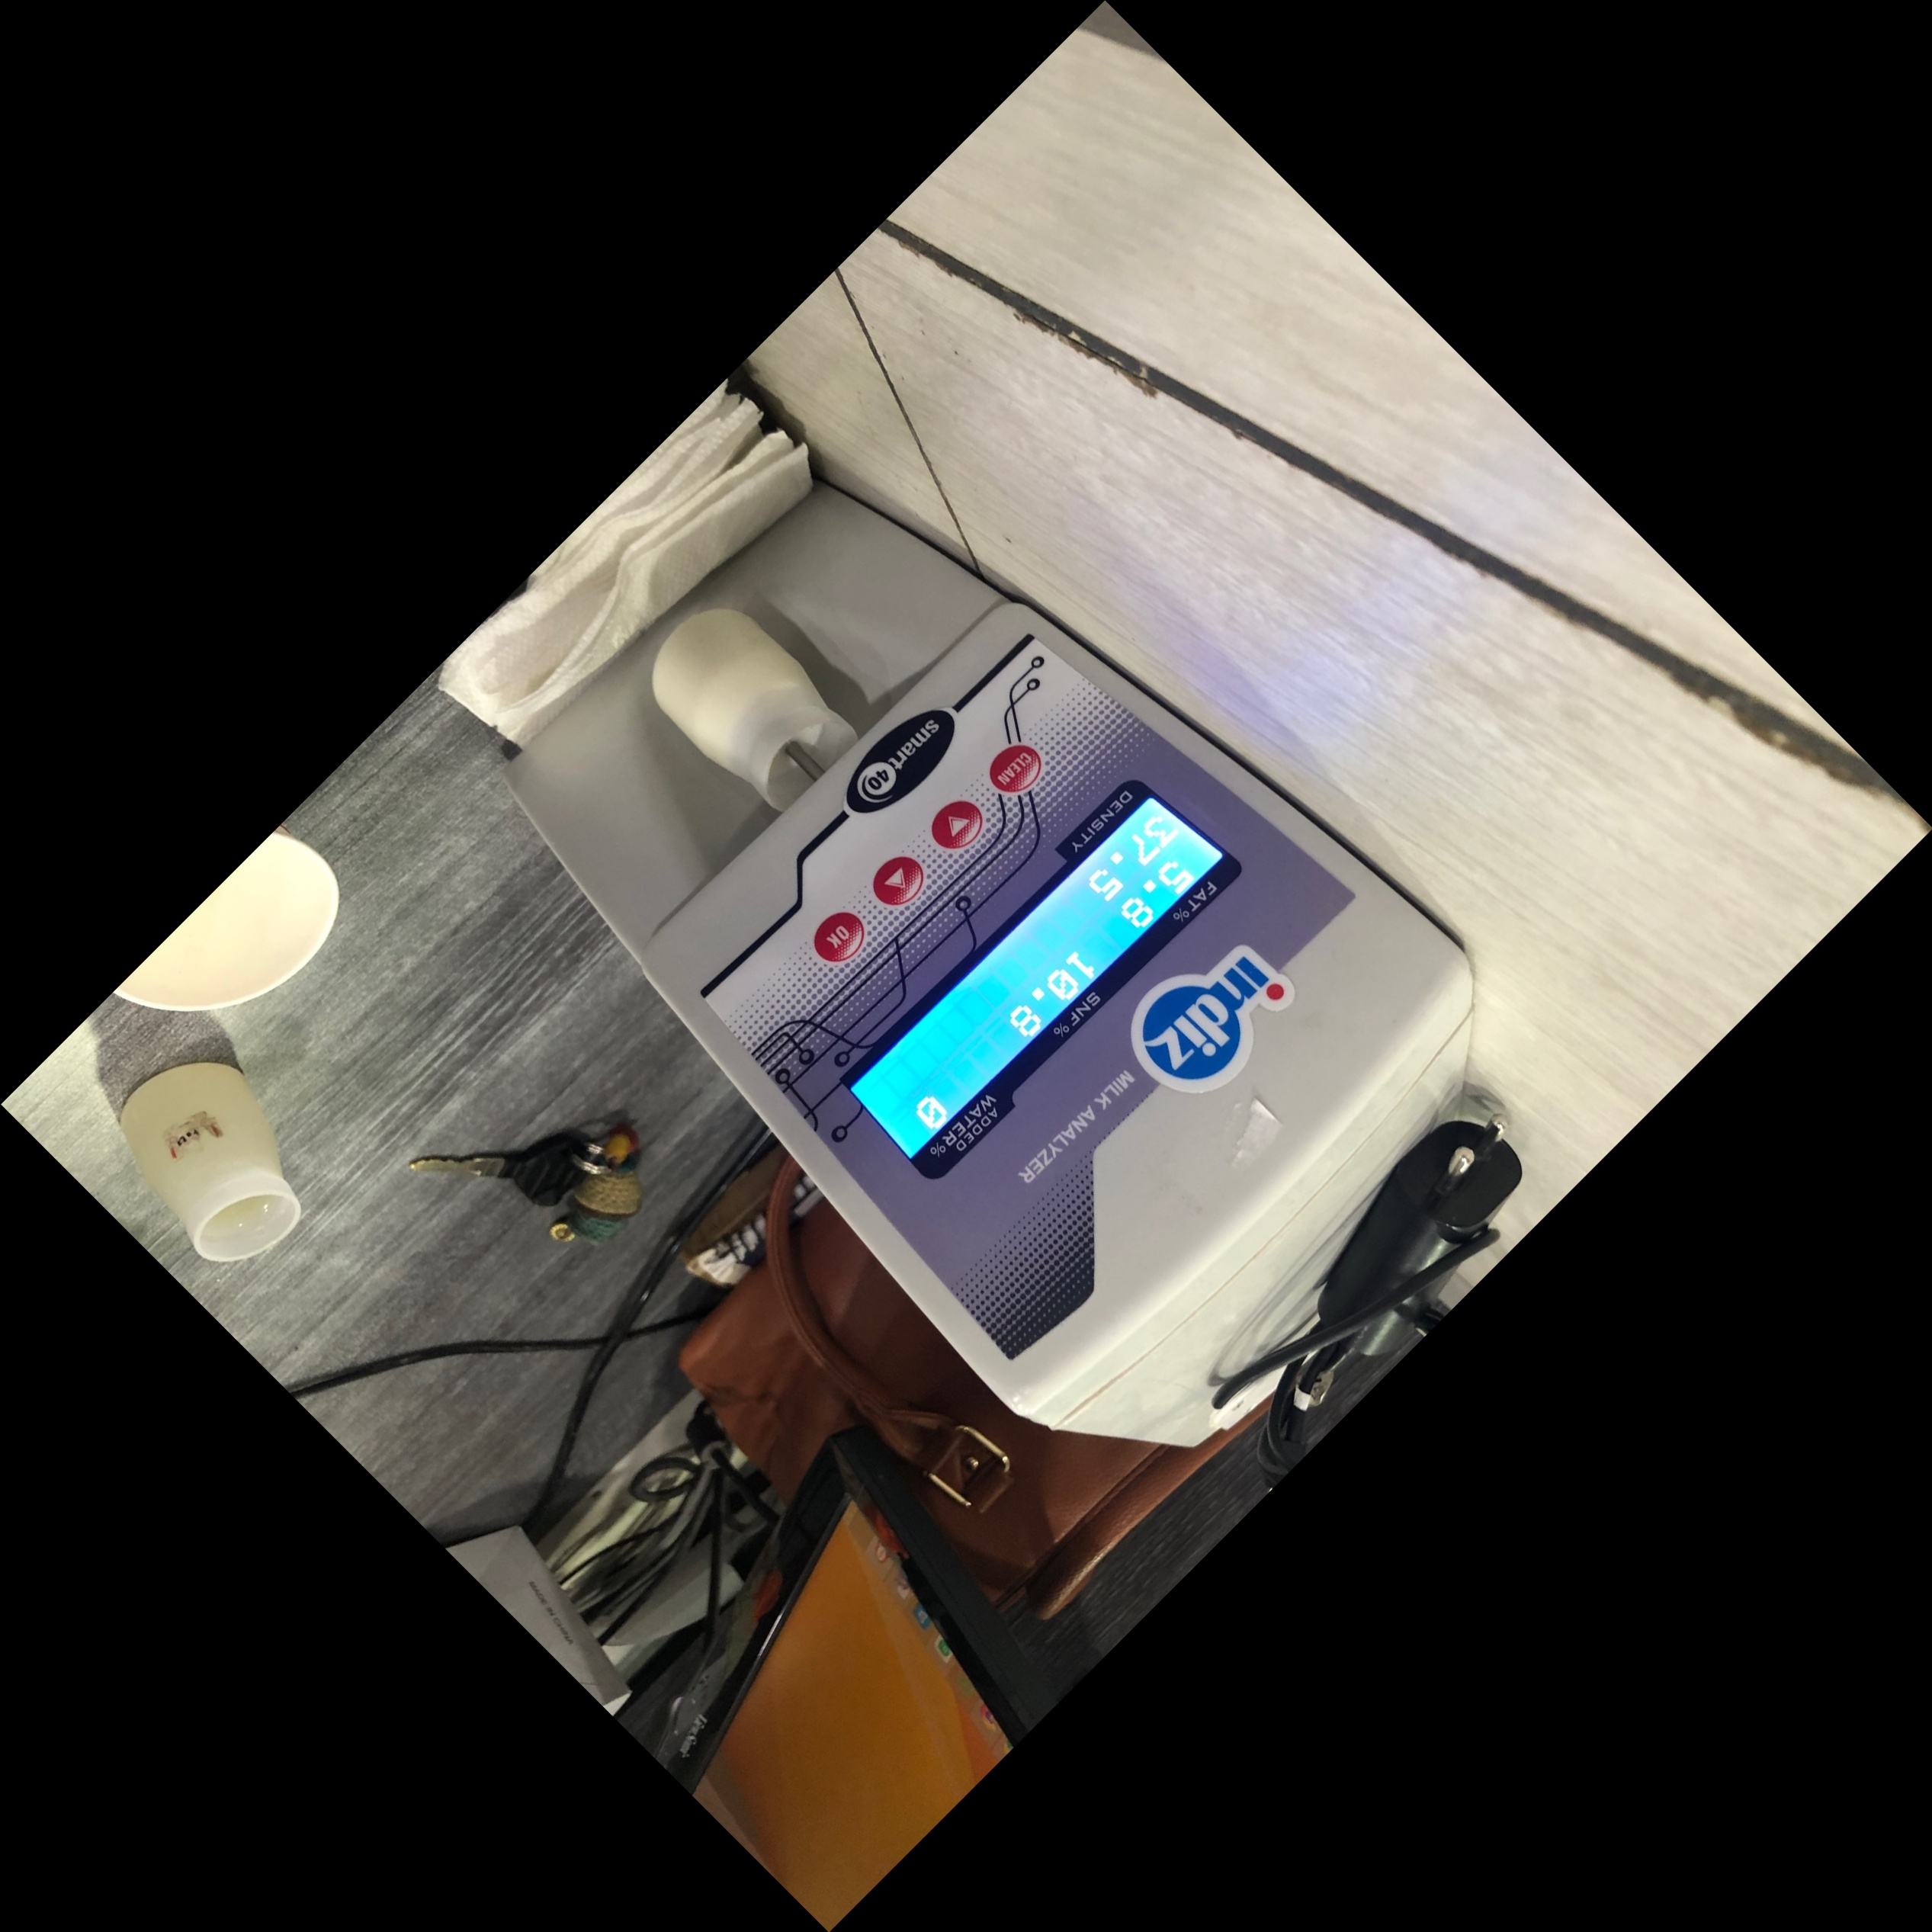lcd: (847, 768, 1254, 1198)
